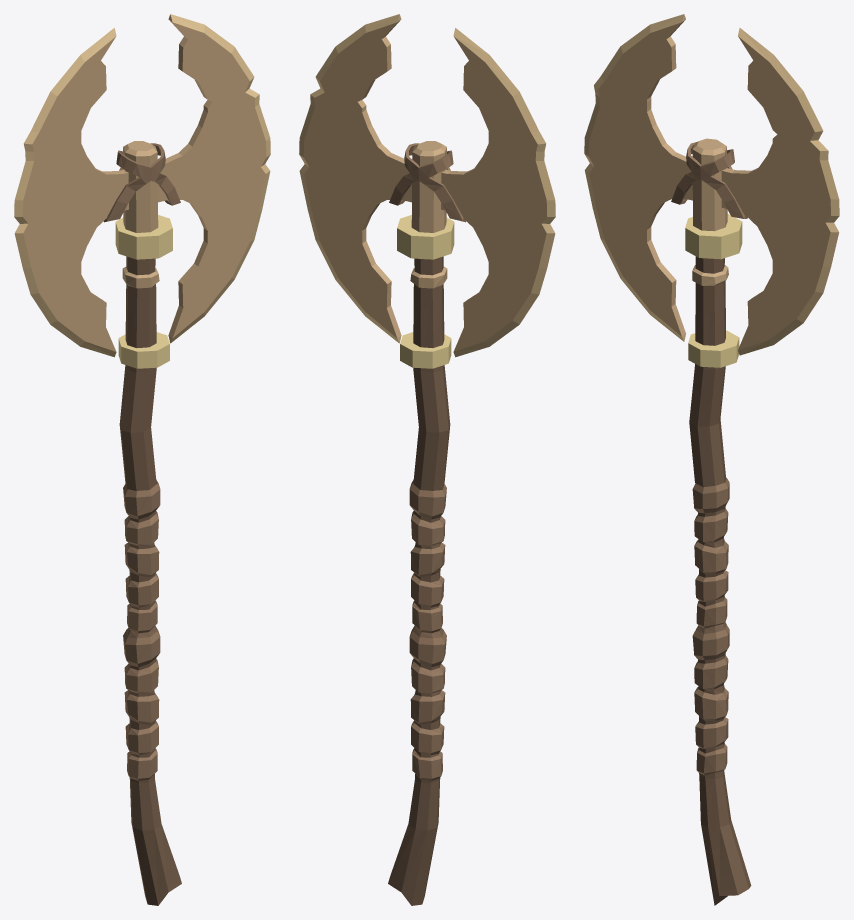
Rendered from hacha_doble_bronce.glb.
3 renders of one model, left to right at view 1: azimuth 30°, elevation 25°; view 2: azimuth 150°, elevation 25°; view 3: azimuth 330°, elevation 25°, orthographic.
Parts seen in each view (by area): view 1: hacha_doble_bronce; view 2: hacha_doble_bronce; view 3: hacha_doble_bronce.
Boxes of the visible parts, x1=… form: hacha_doble_bronce: x1=14, y1=14, x2=270, y2=905; hacha_doble_bronce: x1=299, y1=14, x2=555, y2=905; hacha_doble_bronce: x1=584, y1=14, x2=839, y2=905.
Bounding box in the file's own units: 1.9 × 6.25 × 0.38.
